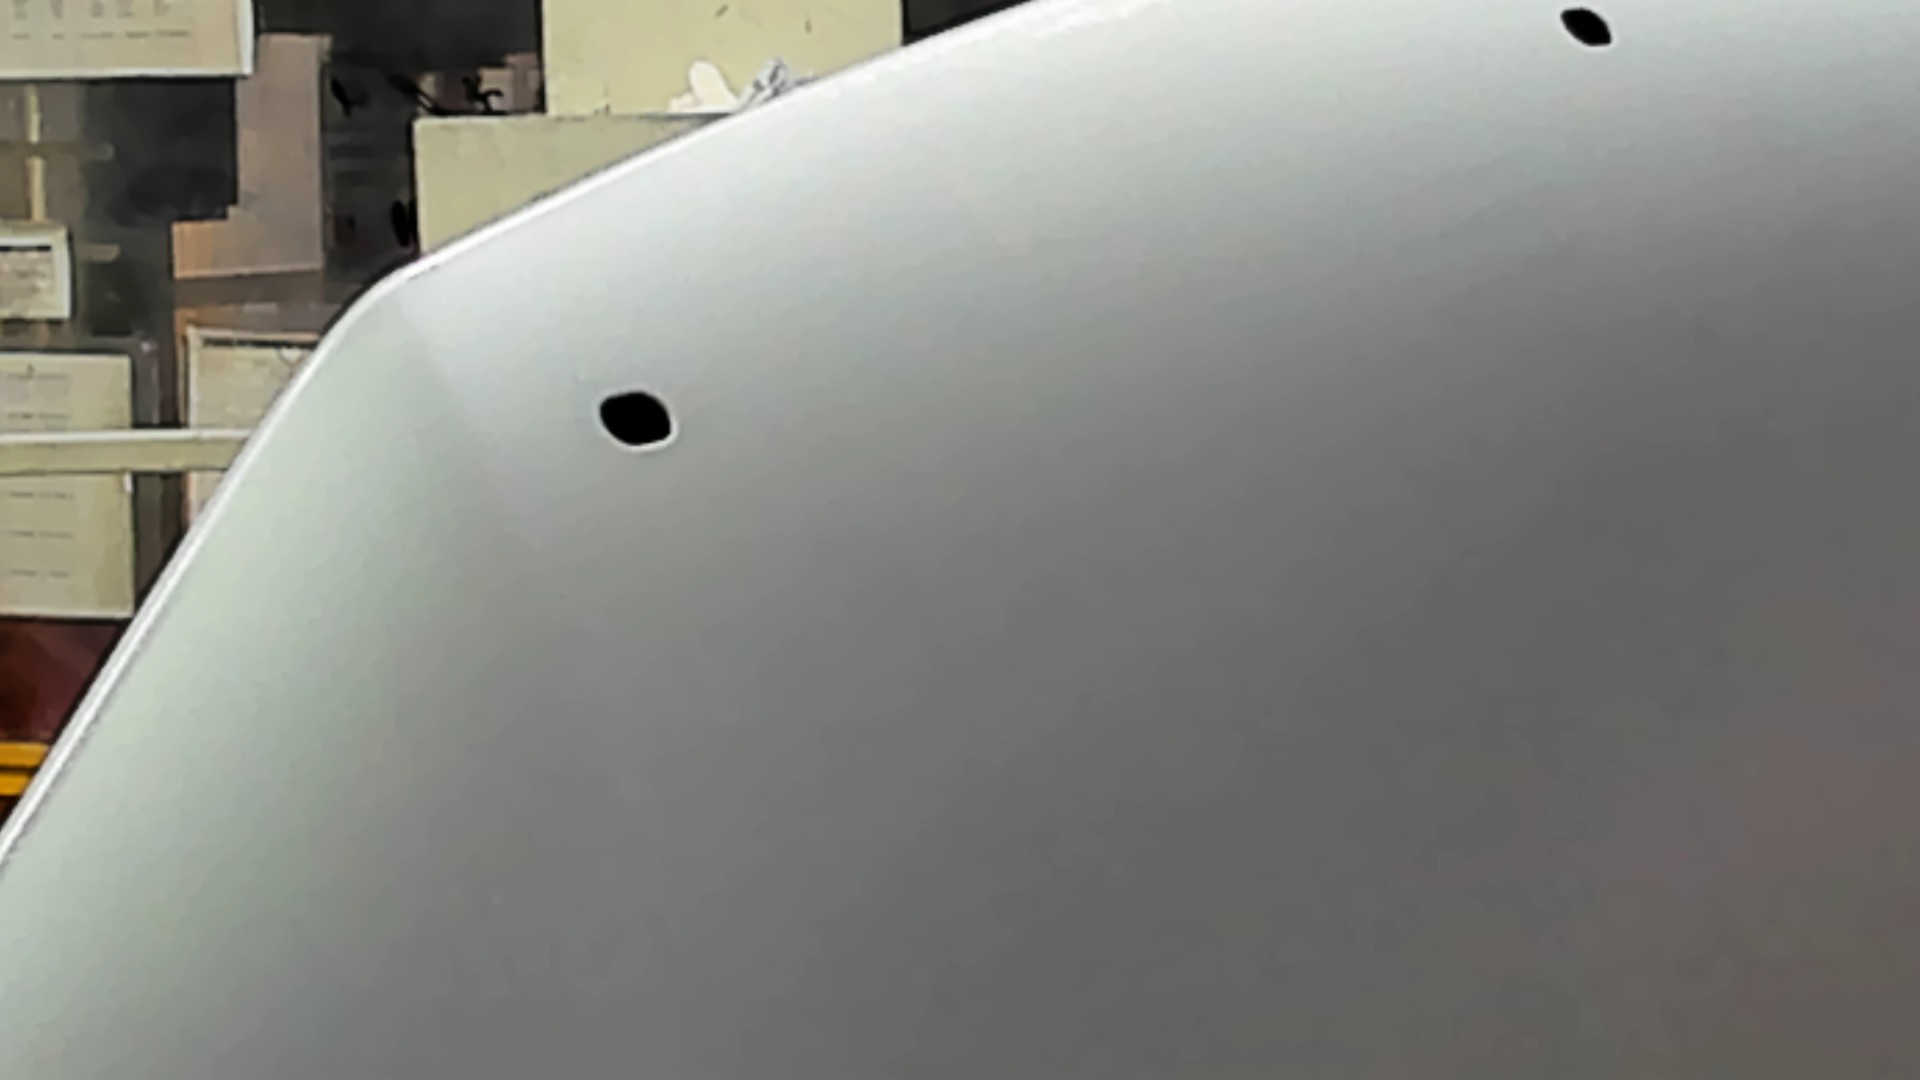amorfo: (591, 386, 682, 454), (1551, 3, 1621, 51)
